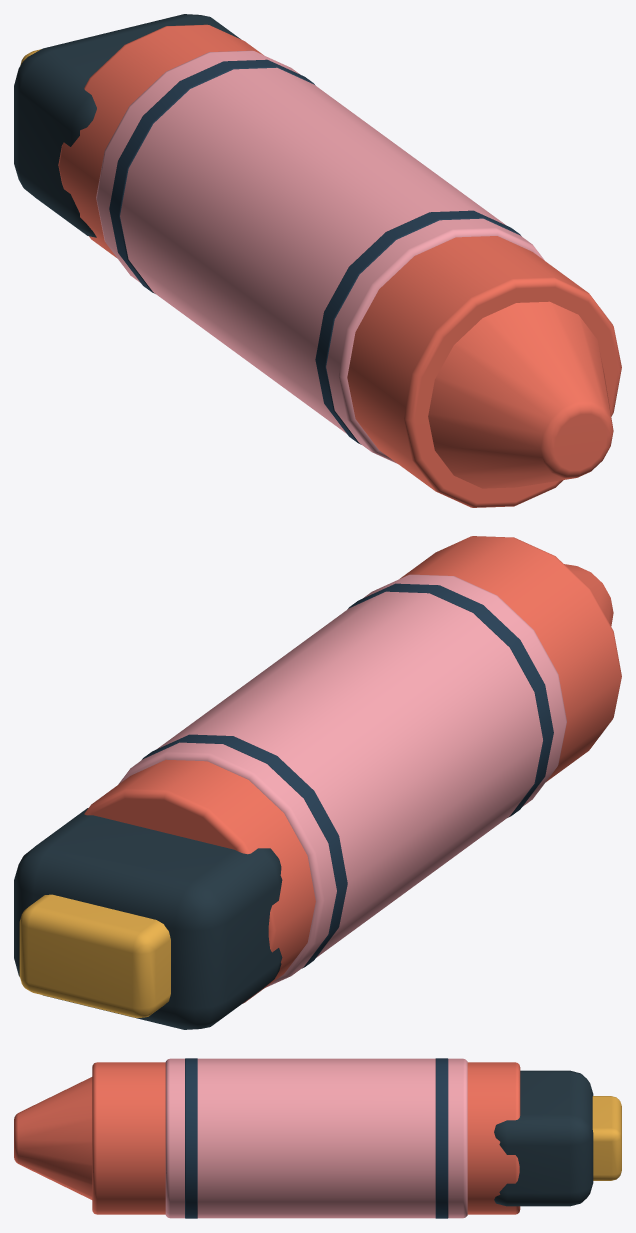
File: part_crayon.glb
The picture shows the model from 3 angles, top to bottom: view 1: azimuth 30°, elevation 25°; view 2: azimuth 150°, elevation 25°; view 3: azimuth 270°, elevation 25°; orthographic projection. The views are drawn at different scales.
Visible parts, largest first — view 1: Paper crayon sleeve, Crayon wax, Rounded wax tip, Universal rubber mounting pad.017, Paper wrapper stripe, Paper wrapper stripe.001; view 2: Paper crayon sleeve, Crayon wax, Universal rubber mounting pad.017, Snap-in brass tongue.017, Paper wrapper stripe.001, Paper wrapper stripe, Rounded wax tip; view 3: Paper crayon sleeve, Crayon wax, Universal rubber mounting pad.017, Rounded wax tip, Snap-in brass tongue.017, Paper wrapper stripe, Paper wrapper stripe.001.
Boxes of the visible parts, <box> form: Paper crayon sleeve: <box>96,50,544,463</box>; Crayon wax: <box>58,24,621,507</box>; Rounded wax tip: <box>428,301,613,488</box>; Universal rubber mounting pad.017: <box>14,14,241,237</box>; Paper wrapper stripe: <box>109,59,315,293</box>; Paper wrapper stripe.001: <box>315,210,521,444</box>; Paper crayon sleeve: <box>118,574,566,987</box>; Crayon wax: <box>84,536,621,1003</box>; Universal rubber mounting pad.017: <box>14,808,282,1029</box>; Snap-in brass tongue.017: <box>19,894,170,1017</box>; Paper wrapper stripe.001: <box>347,583,553,817</box>; Paper wrapper stripe: <box>142,734,347,968</box>; Rounded wax tip: <box>564,564,613,626</box>; Paper crayon sleeve: <box>165,1058,467,1218</box>; Crayon wax: <box>92,1062,520,1214</box>; Universal rubber mounting pad.017: <box>494,1070,593,1206</box>; Rounded wax tip: <box>14,1077,92,1199</box>; Snap-in brass tongue.017: <box>592,1096,621,1180</box>; Paper wrapper stripe: <box>435,1058,448,1218</box>; Paper wrapper stripe.001: <box>185,1058,197,1218</box>.
Bounding box in the file's own units: 0.00616 × 0.00616 × 0.0233.
